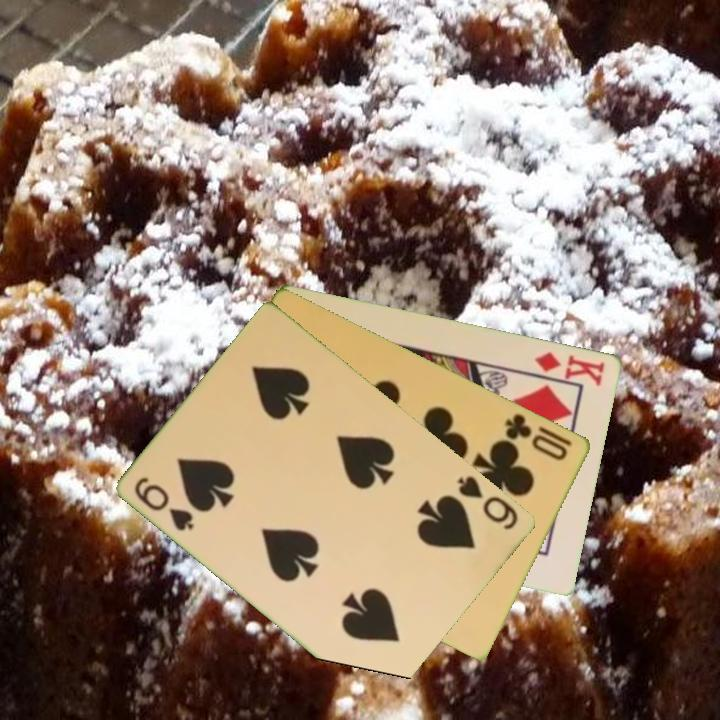10c: (502, 409, 571, 463)
6s: (455, 472, 522, 533), (131, 473, 198, 534)
Kd: (531, 348, 608, 389)
